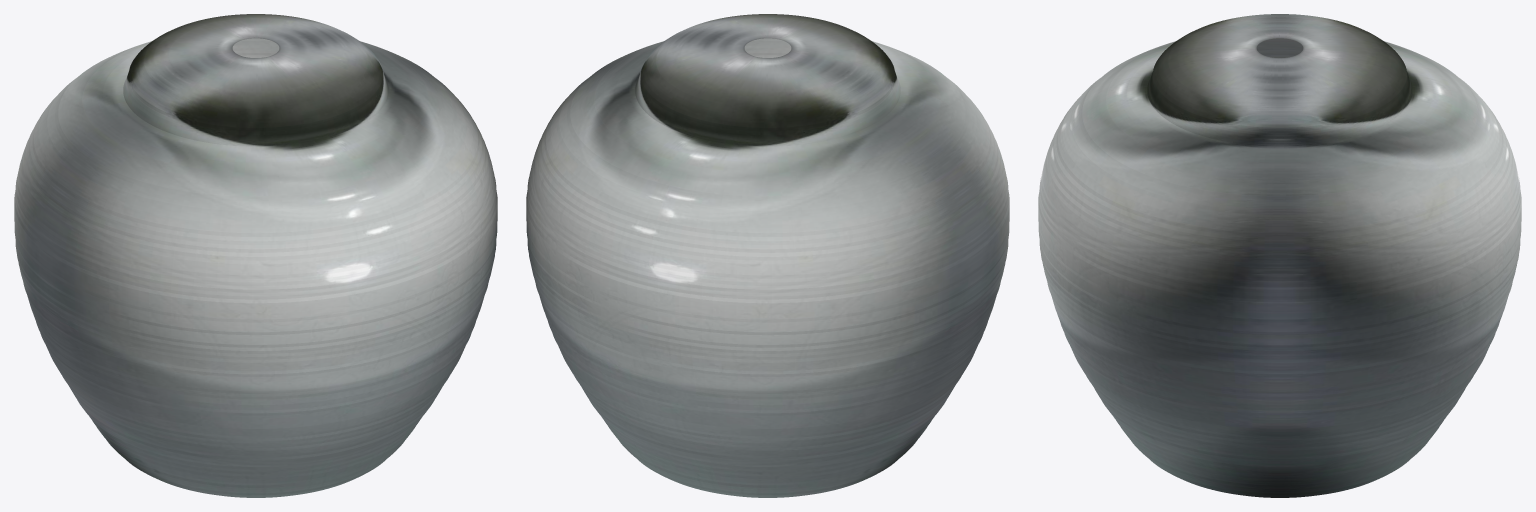
Rendered from cma-76524.glb.
The picture shows the model from 3 angles, left to right: view 1: azimuth 30°, elevation 25°; view 2: azimuth 150°, elevation 25°; view 3: azimuth 270°, elevation 25°; orthographic projection.
Visible parts, largest first — view 1: geometry_0; view 2: geometry_0; view 3: geometry_0.
Boxes of the visible parts, x1,y1,x2,y2 form: geometry_0: [14, 14, 497, 497]; geometry_0: [526, 14, 1009, 497]; geometry_0: [1038, 14, 1521, 497].
Size of the model in its own units: 31.82 by 30 by 31.82.
Materials: 1 (1 with a texture image).
